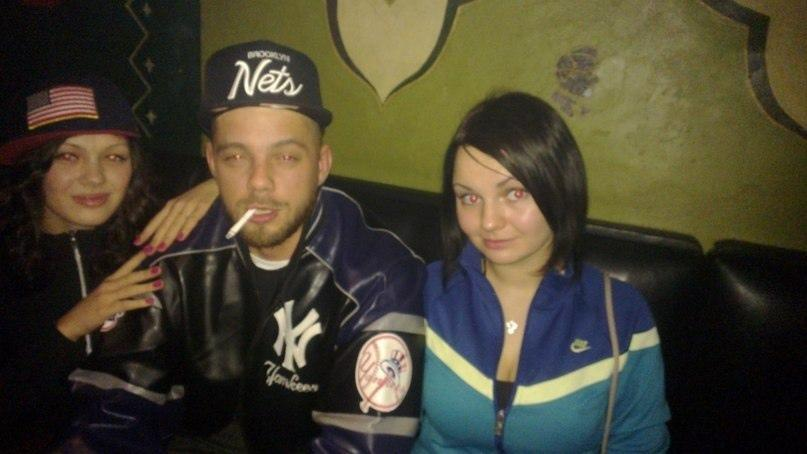cigarette: (225, 209, 256, 240)
